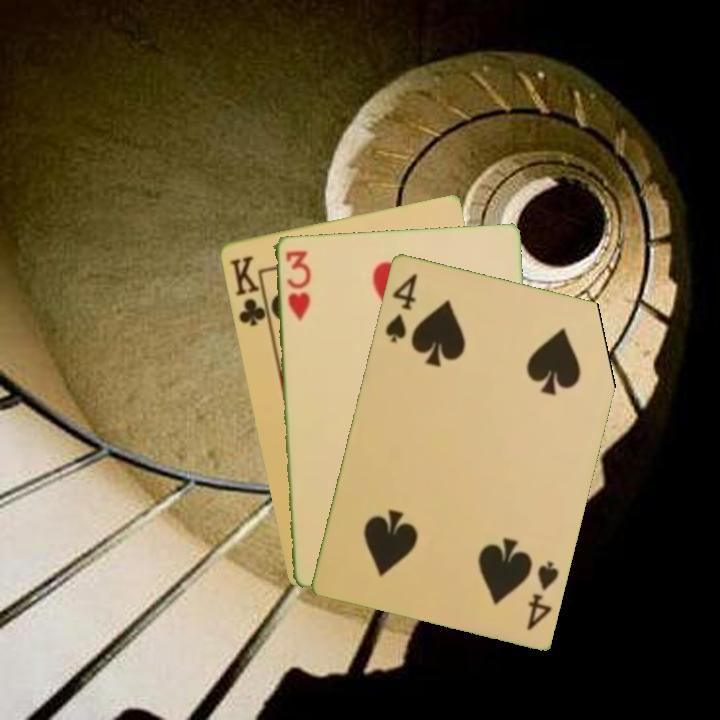3h: (282, 247, 313, 323)
4s: (381, 269, 420, 346), (522, 556, 561, 633)
Kc: (226, 251, 272, 329)
